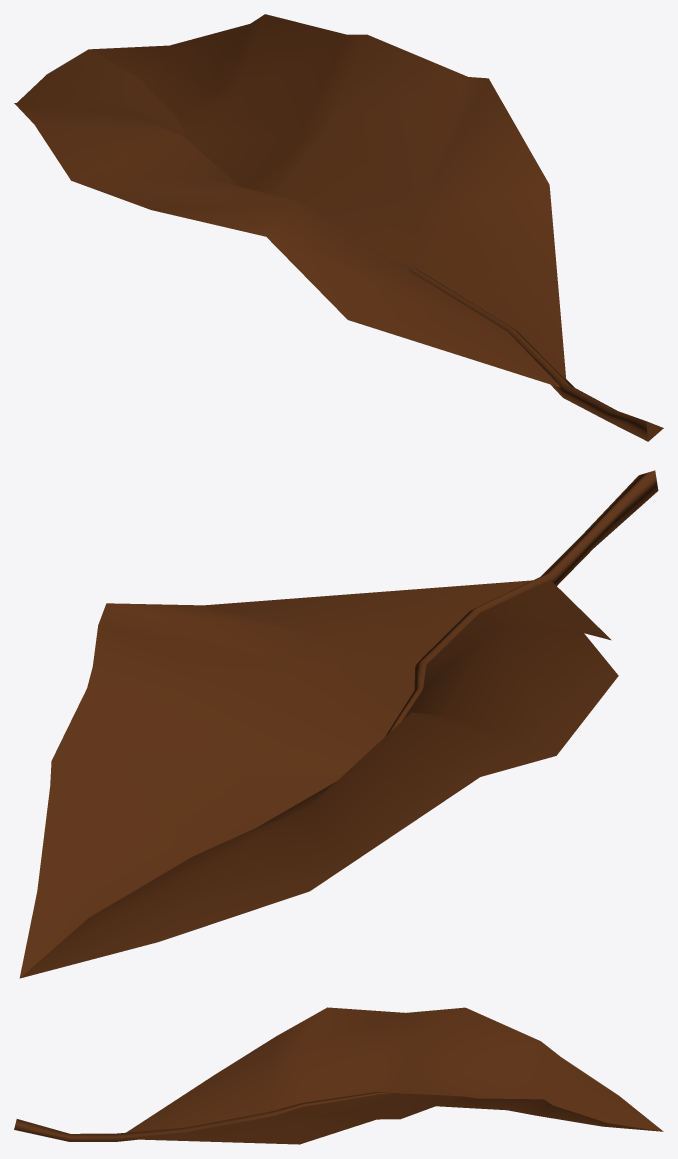
The model's file is IL3DN_Dead_Leaf_01.fbx.
The picture shows the model from 3 angles, top to bottom: view 1: azimuth 30°, elevation 25°; view 2: azimuth 150°, elevation 25°; view 3: azimuth 270°, elevation 25°; orthographic projection. The views are drawn at different scales.
Parts seen in each view (by area): view 1: Nature_Dead_Leaf_01; view 2: Nature_Dead_Leaf_01; view 3: Nature_Dead_Leaf_01.
Boxes of the visible parts, x1,y1,x2,y2 form: Nature_Dead_Leaf_01: [14, 14, 663, 441]; Nature_Dead_Leaf_01: [19, 470, 658, 978]; Nature_Dead_Leaf_01: [14, 1007, 663, 1144].
Size of the model in its own units: 3.03 by 0.9056 by 7.23.
